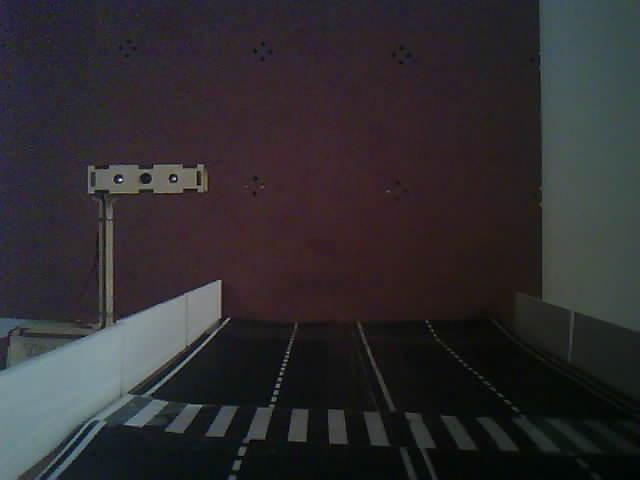crosswalk: (60, 370, 640, 480)
no: (61, 150, 266, 343)
